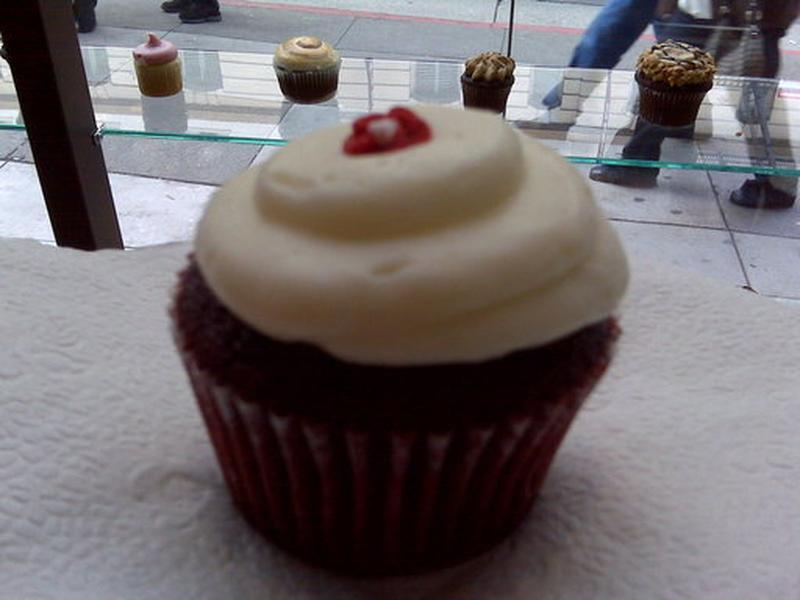cup_cake: (171, 58, 676, 600)
